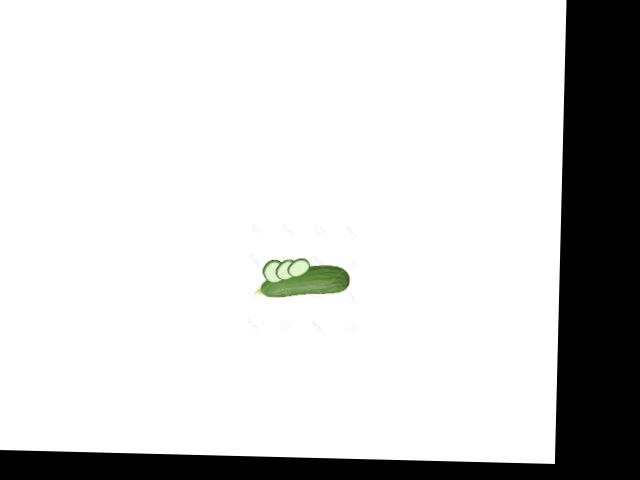cucumber: (255, 263, 351, 298)
